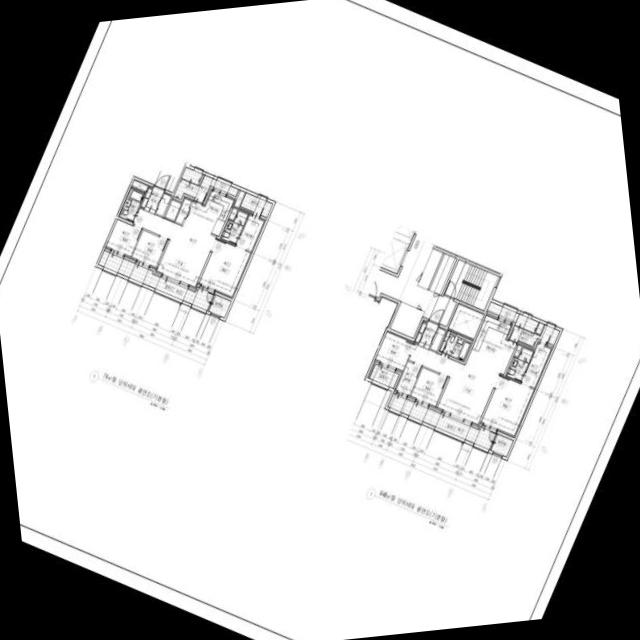background: (0, 0, 640, 640)
space_balconi: (98, 251, 214, 310), (387, 394, 496, 449), (487, 302, 559, 346), (173, 167, 238, 203), (240, 193, 272, 217), (369, 364, 398, 388)
space_bedroom: (480, 376, 534, 437), (198, 239, 251, 298), (374, 331, 414, 372), (130, 230, 167, 269), (410, 368, 446, 408), (105, 219, 141, 258)
space_dressroom: (521, 341, 552, 388), (236, 215, 265, 252)
space_elevator: (380, 235, 410, 273), (394, 224, 414, 240)
space_elevator_hall: (368, 237, 456, 326)
space_front: (413, 320, 445, 351), (140, 186, 171, 216)
space_kitchen: (467, 313, 516, 374), (184, 189, 235, 236)
space_living_room: (408, 344, 499, 426), (133, 208, 216, 289)
space_other: (389, 302, 424, 338), (448, 303, 483, 339), (429, 253, 456, 295), (417, 248, 442, 289), (394, 361, 421, 397), (174, 196, 192, 224), (164, 199, 181, 221), (131, 180, 148, 192), (233, 191, 244, 208), (228, 208, 237, 220), (535, 323, 543, 334), (514, 345, 521, 357)
space_outdoor_room: (490, 434, 513, 456), (208, 295, 230, 317)
space_staircase: (444, 259, 498, 310)
space_toilet: (439, 330, 472, 361), (506, 348, 533, 381), (220, 211, 247, 244), (119, 188, 144, 222)
